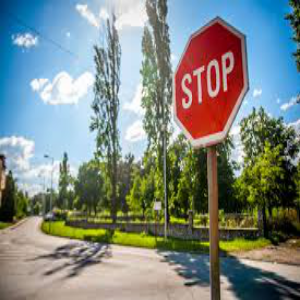STOP_SIGN: (172, 15, 250, 147)
